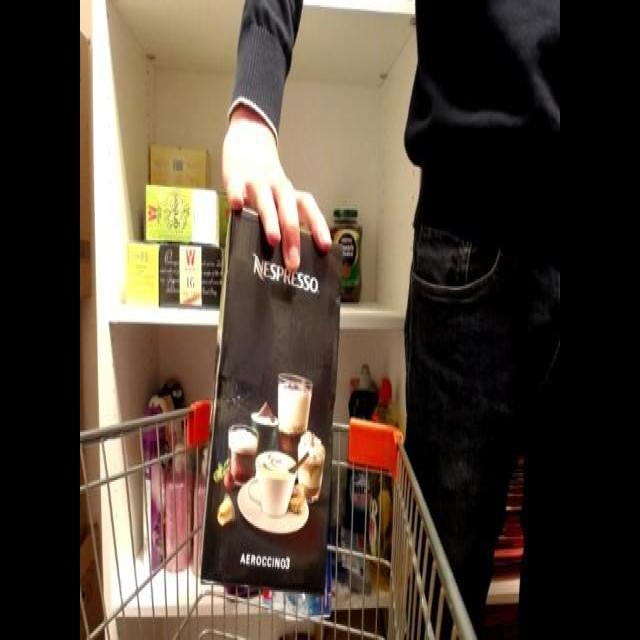Nespresso: (188, 197, 358, 606)
